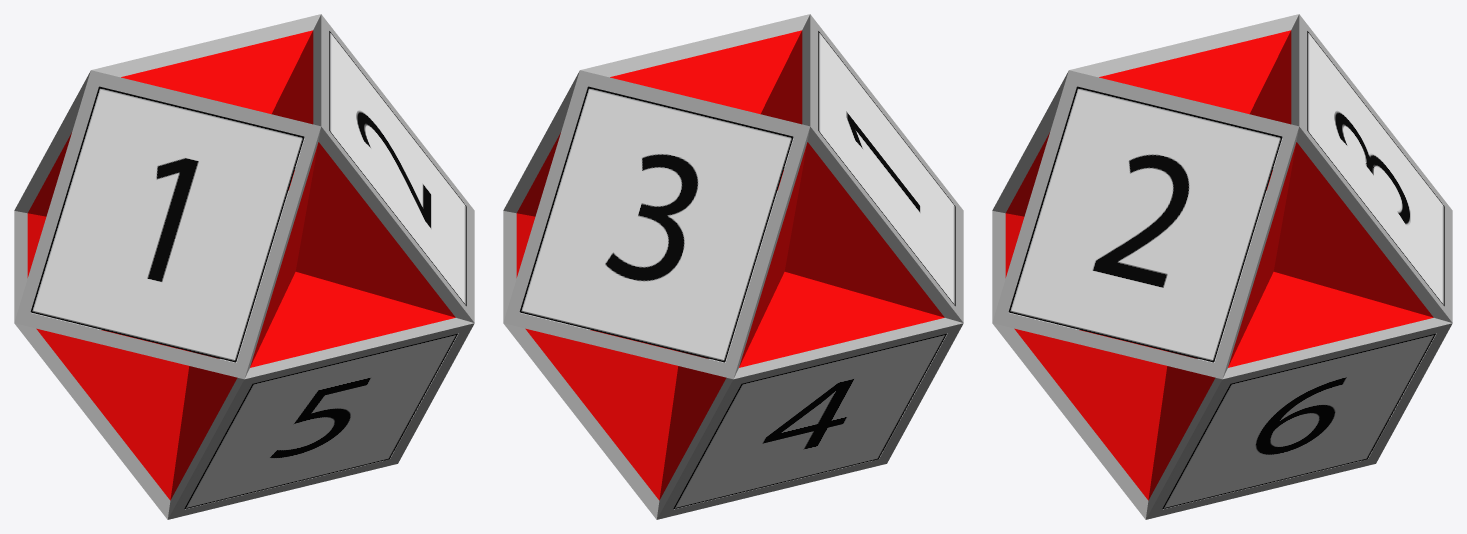
File: one.glb
3 views of the same model, side by side, from view 1: azimuth 30°, elevation 25°; view 2: azimuth 150°, elevation 25°; view 3: azimuth 270°, elevation 25° (orthographic).
Visible parts, largest first — view 1: square1, tetrahedra, rim, square5, square2; view 2: square3, tetrahedra, rim, square4, square1; view 3: square2, tetrahedra, rim, square6, square3.
Part boxes in pixels (x1,y1,x2,y2): square1: (30,86,304,362); tetrahedra: (27,30,455,500); rim: (14,14,474,519); square5: (184,334,457,509); square2: (329,31,466,306); square3: (519,86,793,362); tetrahedra: (516,30,944,500); rim: (503,14,963,519); square4: (673,334,946,509); square1: (818,31,955,306); square2: (1008,86,1282,362); tetrahedra: (1005,30,1433,500); rim: (992,14,1452,519); square6: (1162,334,1435,509); square3: (1307,31,1444,306).
Size of the model in its own units: 2 by 1.63 by 1.73.
8 materials, 8 textured.
